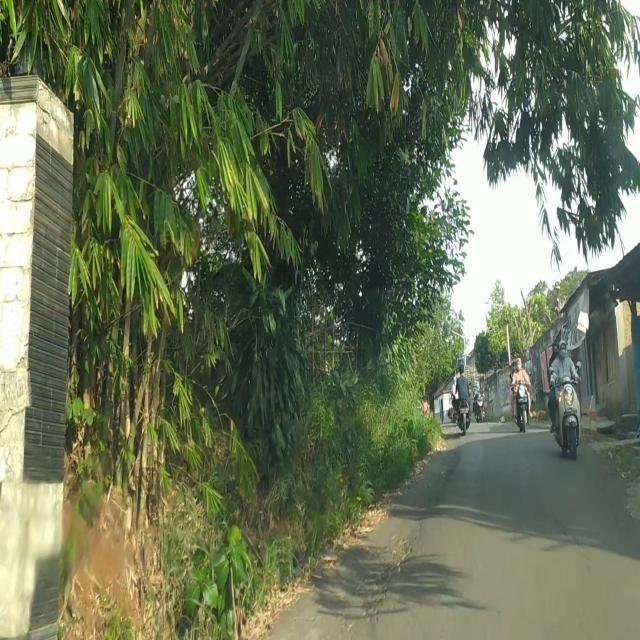Drain Hole: (348, 524, 419, 630)
